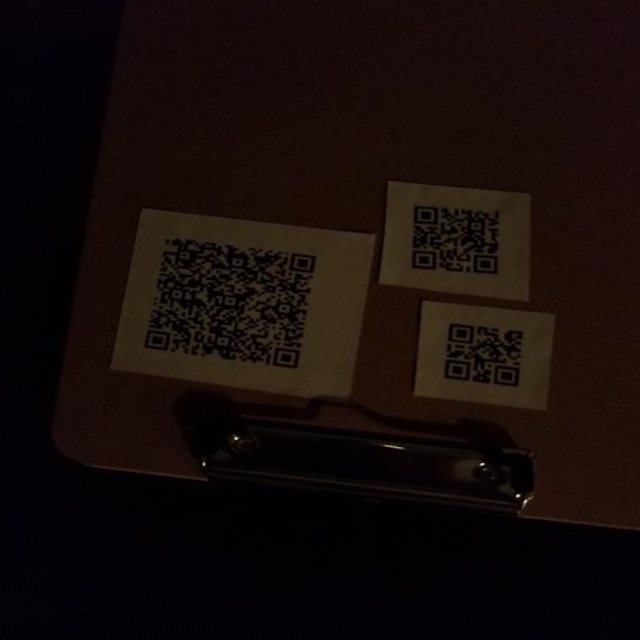qr-code: (128, 229, 327, 386), (396, 191, 517, 285), (426, 310, 540, 404)
